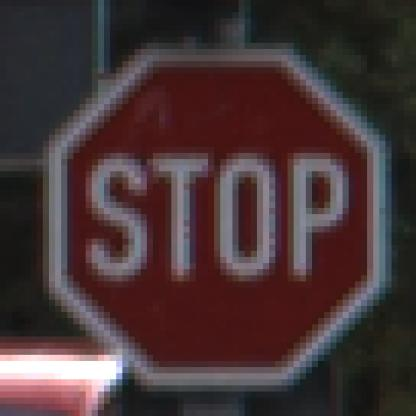stop: (24, 36, 405, 395)
